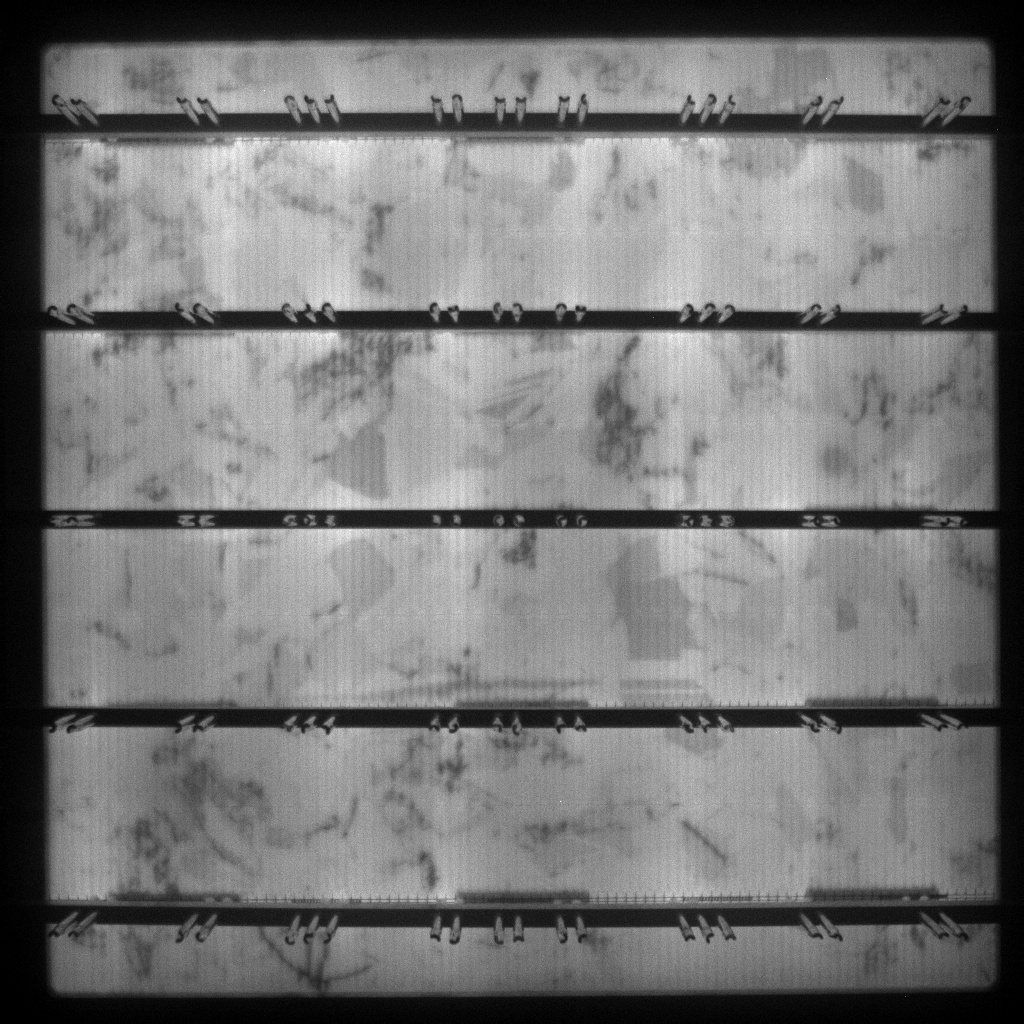crack: (265, 945, 373, 992)
